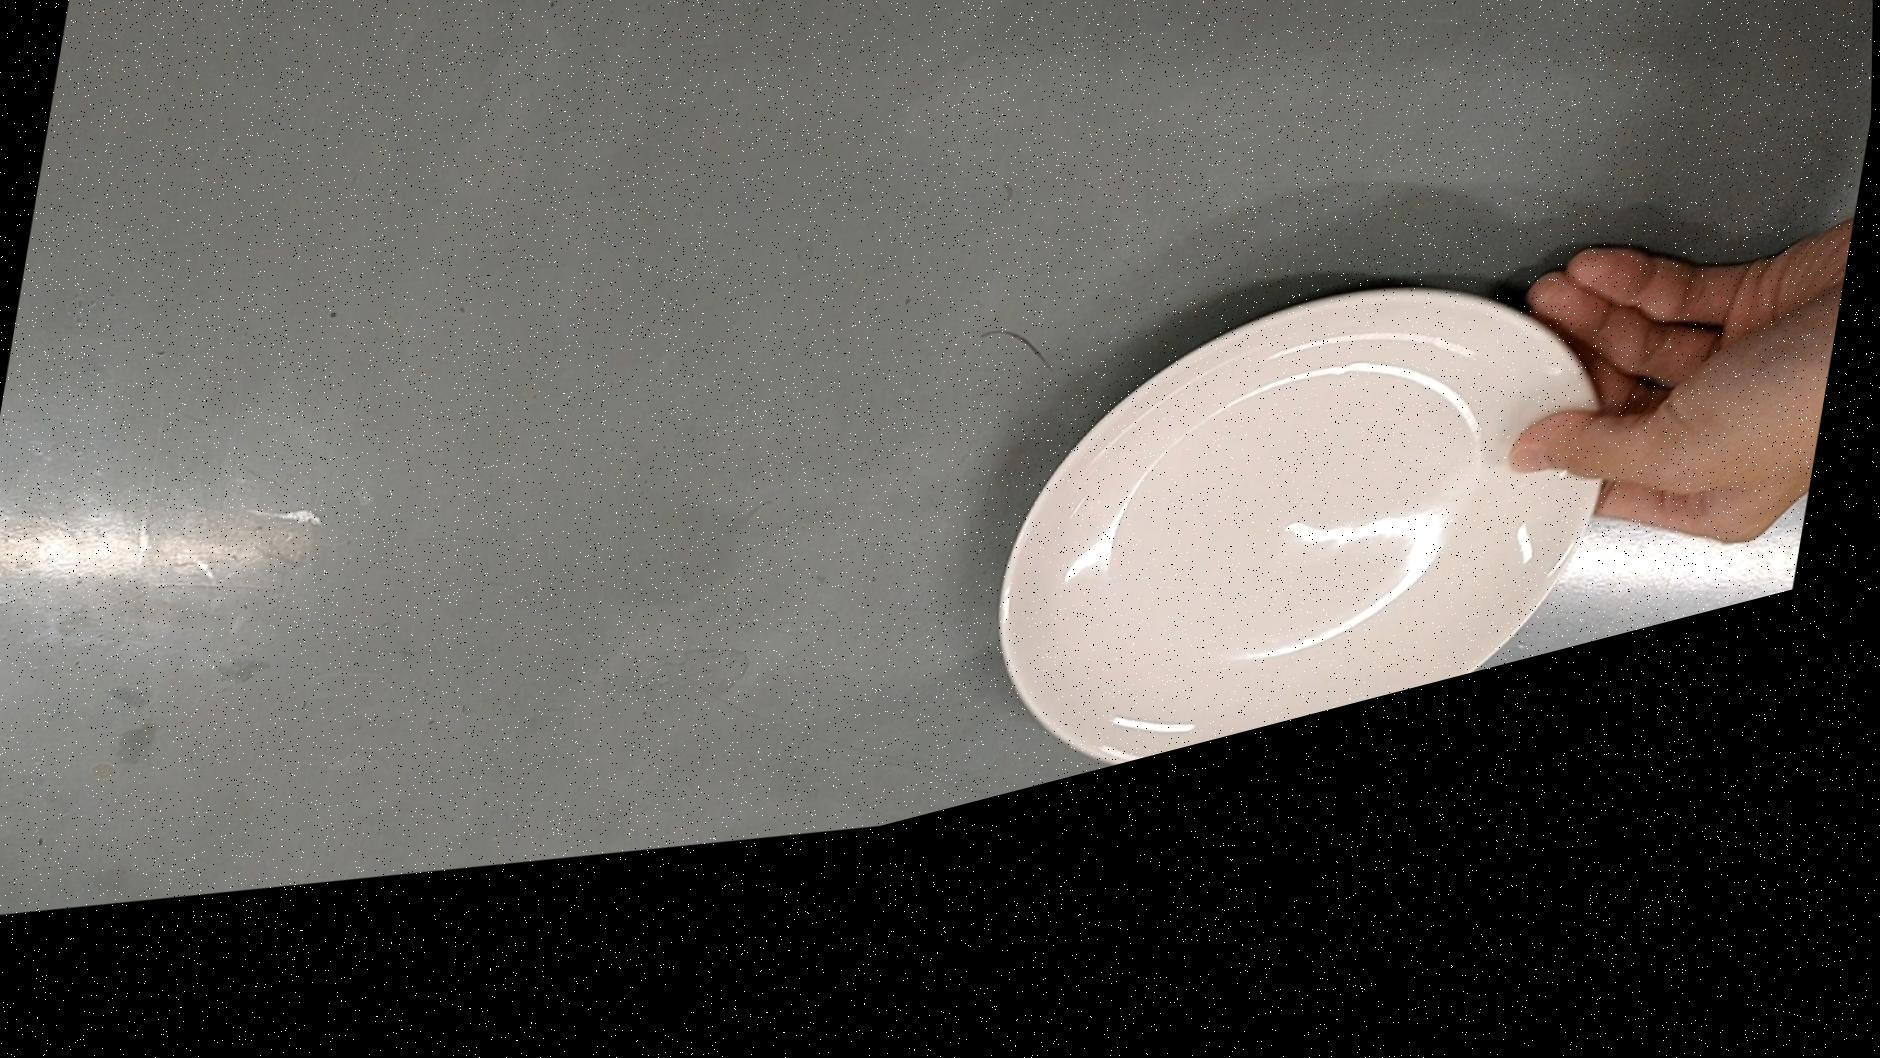plate: (971, 251, 1644, 855)
